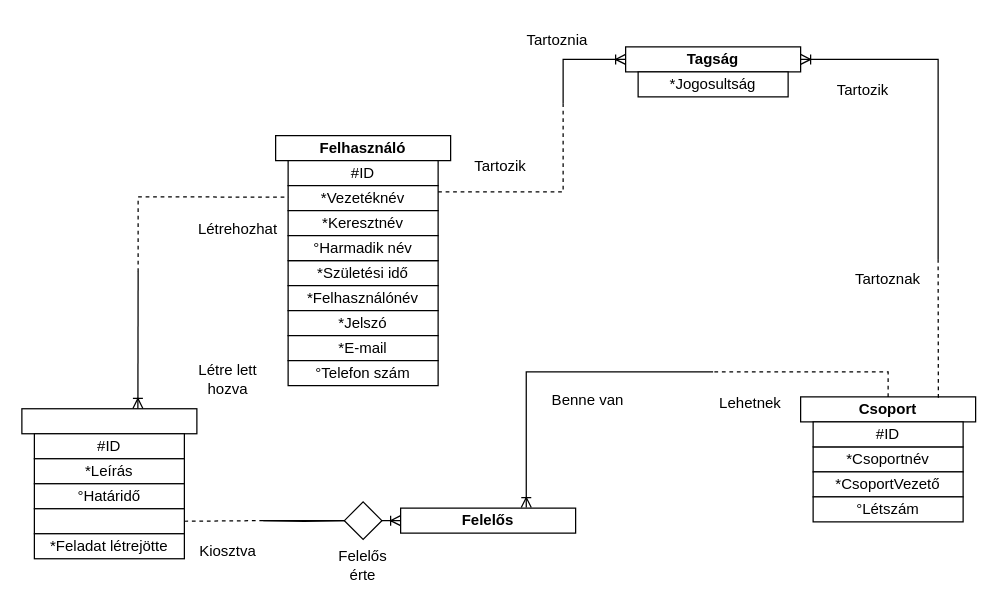
This 998x605 diagram has some shape labels left out. The box of each missing label's shape, as (x1, y1, x2, y2) in pixels:
*Állapot: (33, 508, 184, 534)
Feladat: (21, 408, 197, 434)
